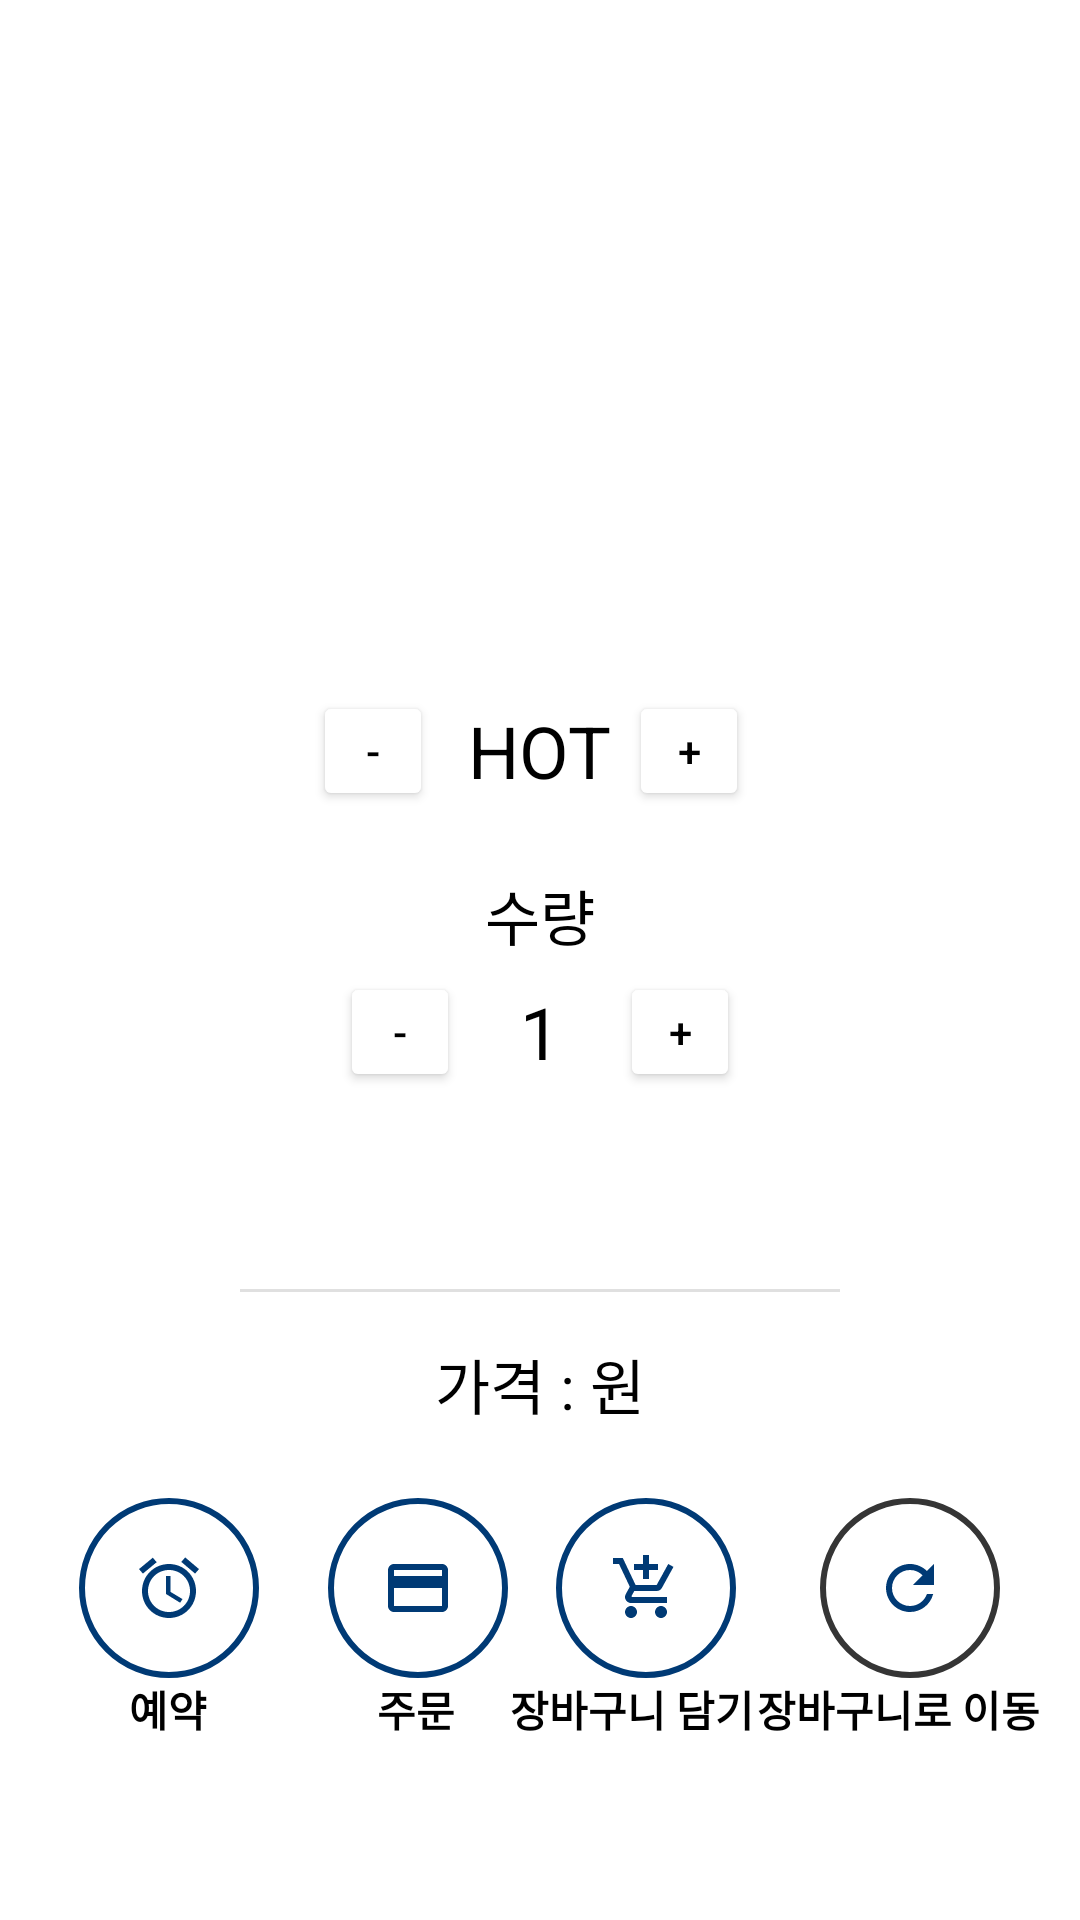

Named icons in this screenshot (1080 × 1920) and their bounding boxes, (x1, y1, x2, y2):
credit: (328, 1498, 508, 1678)
reset: (820, 1498, 1000, 1678)
